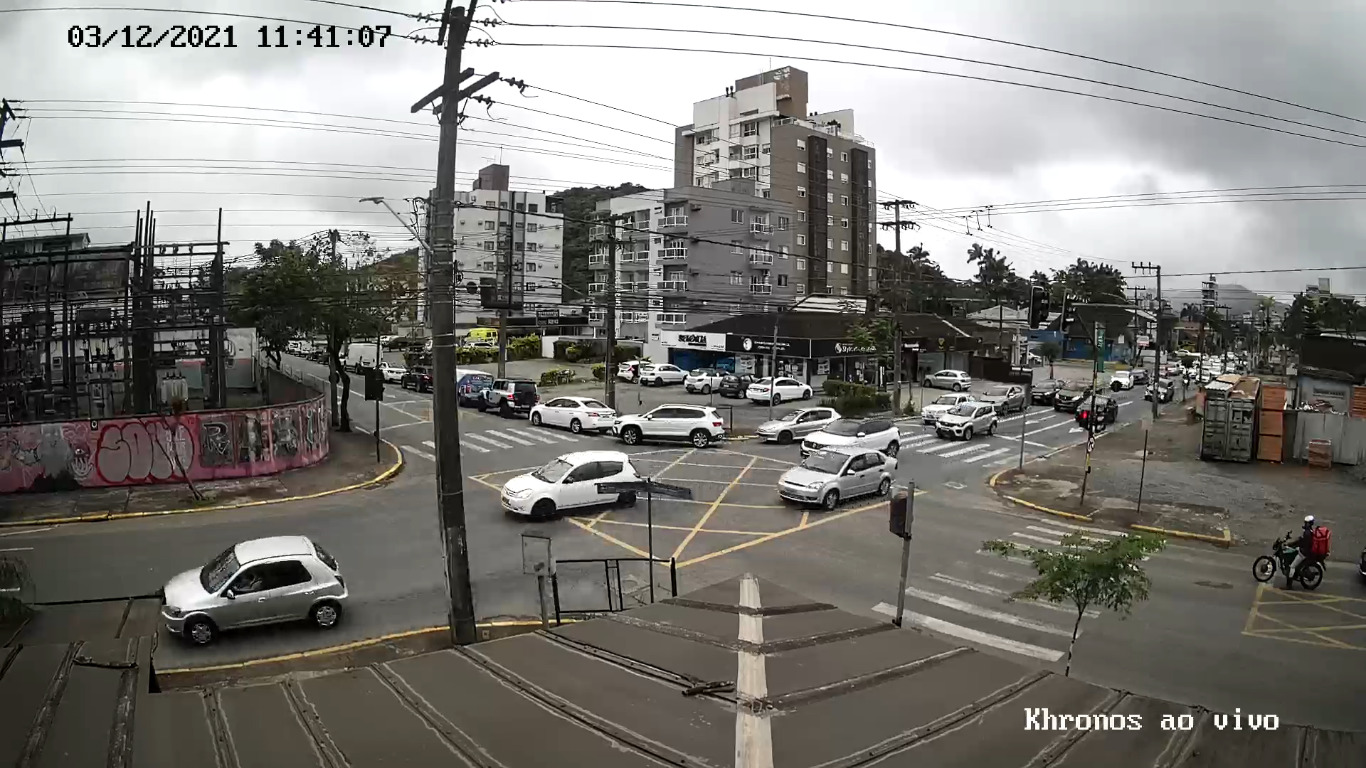car: (156, 533, 351, 645), (496, 448, 643, 524), (774, 445, 900, 512), (612, 400, 726, 449), (799, 416, 903, 465), (527, 392, 618, 438), (754, 404, 843, 447), (934, 400, 999, 444)
motorcycle: (1249, 510, 1334, 598)
